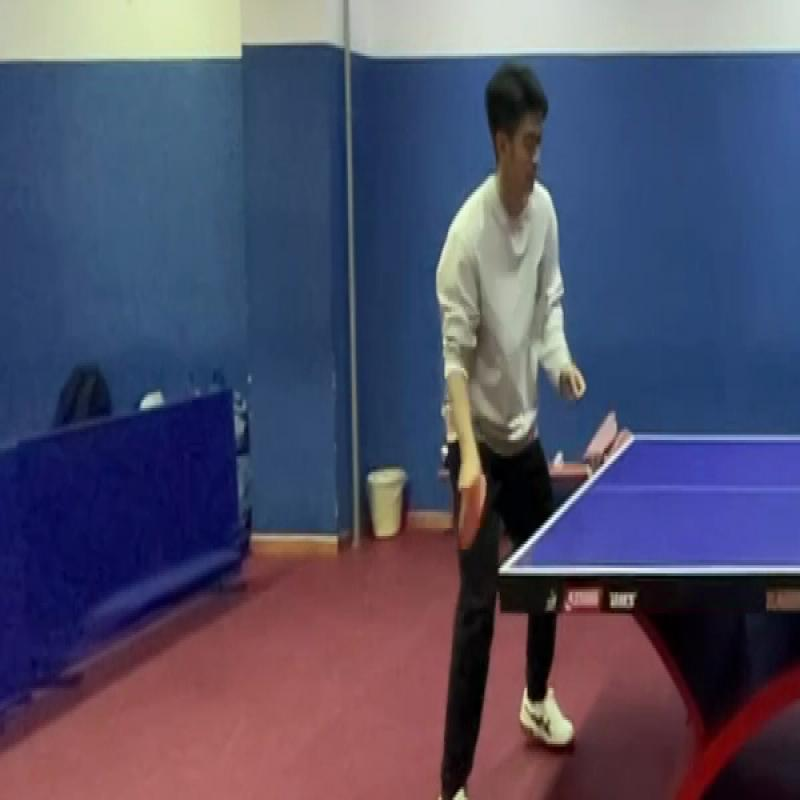bats: (452, 464, 495, 557)
